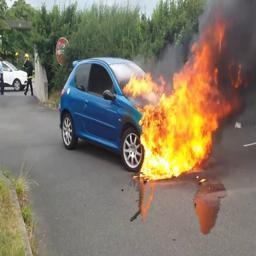fire: (125, 16, 244, 179)
